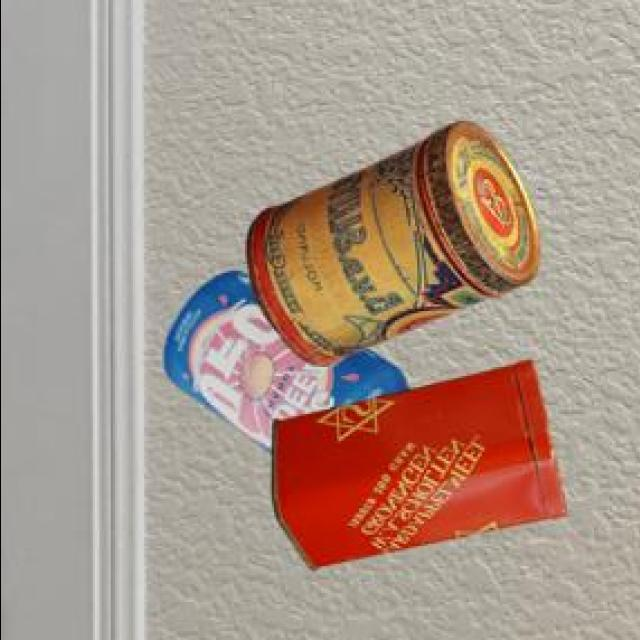logam: (250, 124, 543, 368), (274, 364, 570, 574), (167, 274, 411, 458)
